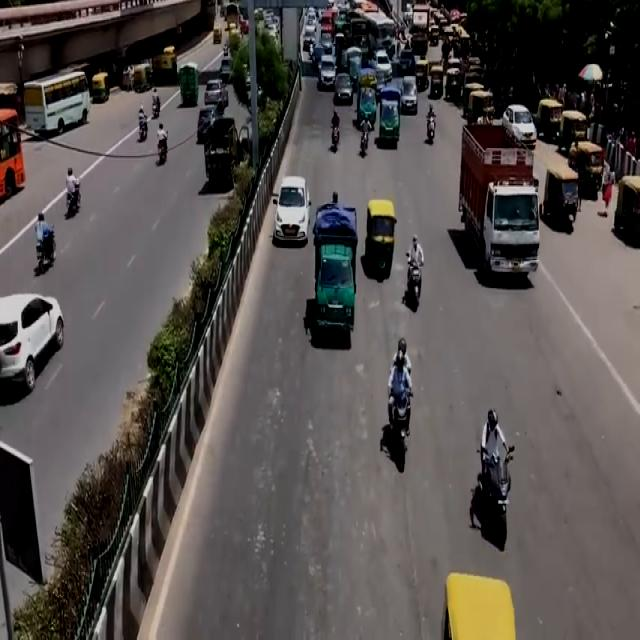BUS: (23, 69, 91, 137)
MOTORCYCLE: (486, 450, 514, 556), (391, 389, 414, 474), (409, 263, 424, 313)
TRUCK: (460, 127, 541, 286), (318, 208, 359, 353)
